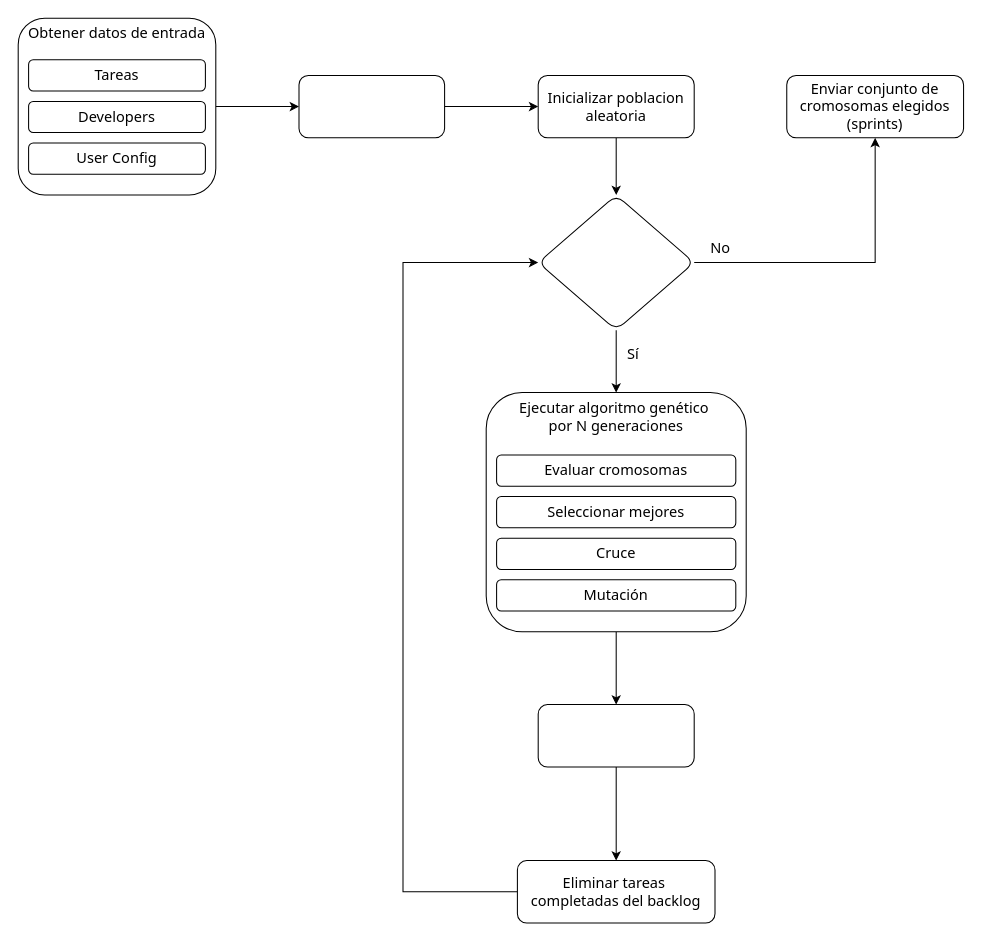
The diagram is 982 pixels wide and 941 high, and some of its shapes have lost their labels. Here are the shapes that lost their labels. From the top down, the centre of each, then its label:
pixel 371 106: Configurar AG con User Config
pixel 615 262: ¿Quedan tareas pendientes?
pixel 615 735: Guardar mejor cromosoma (sprint)
